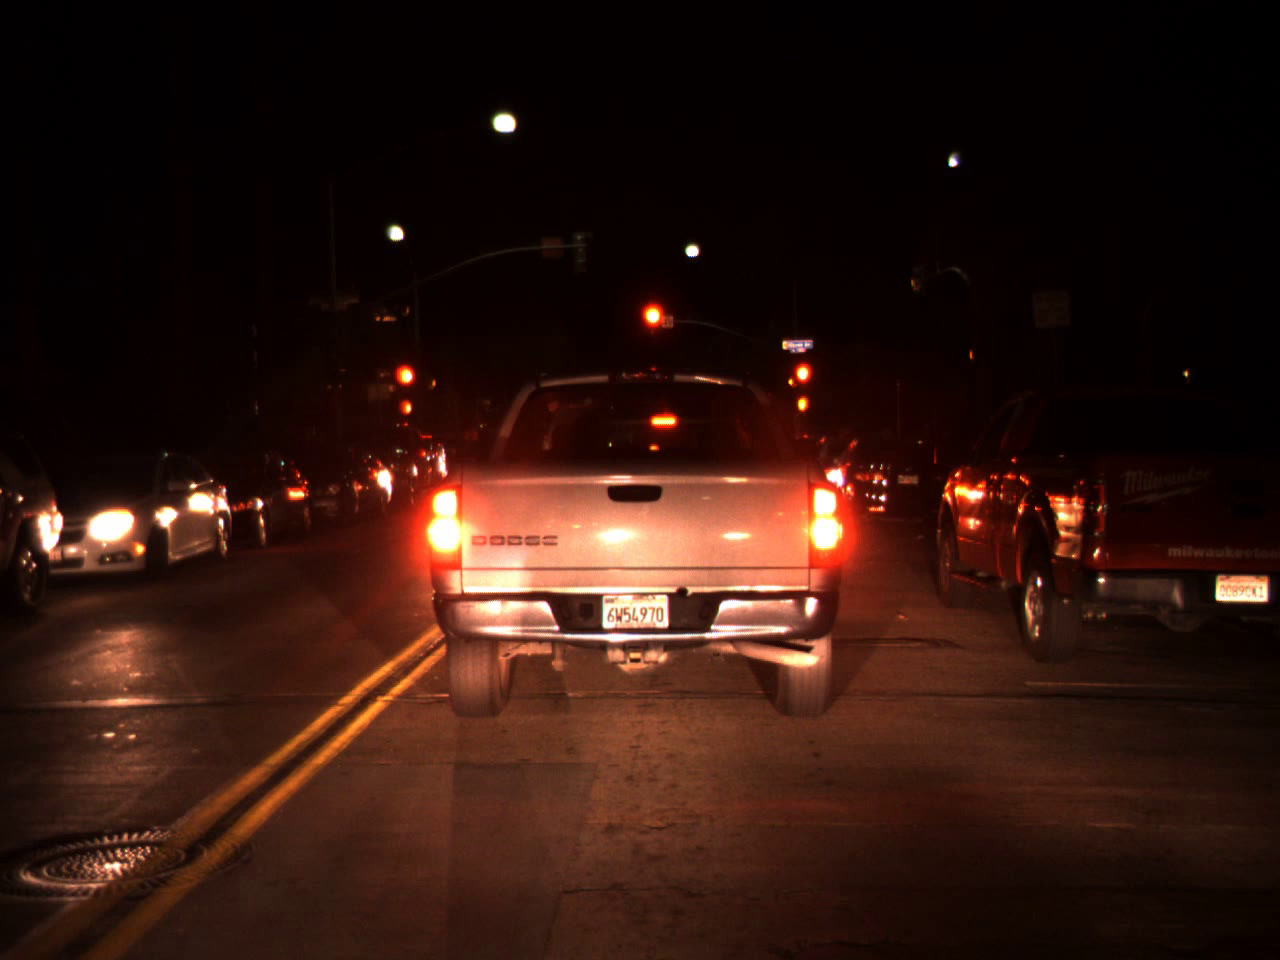stop: (638, 299, 668, 353), (392, 361, 417, 409), (792, 359, 814, 407)
